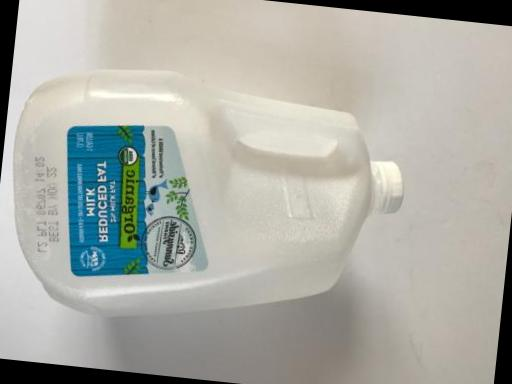plastic: (0, 42, 433, 349)
